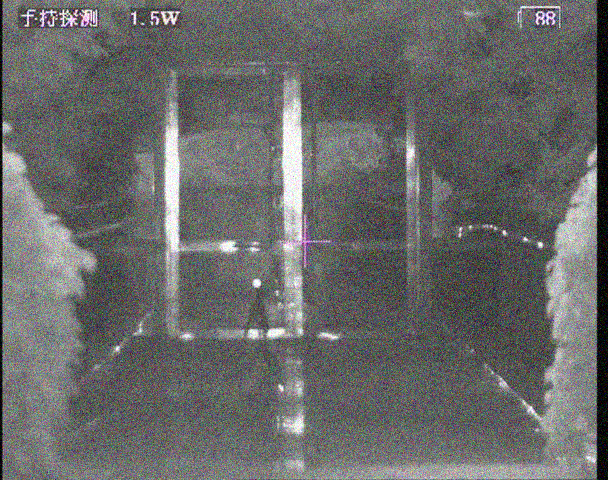my: (251, 278, 263, 289)
